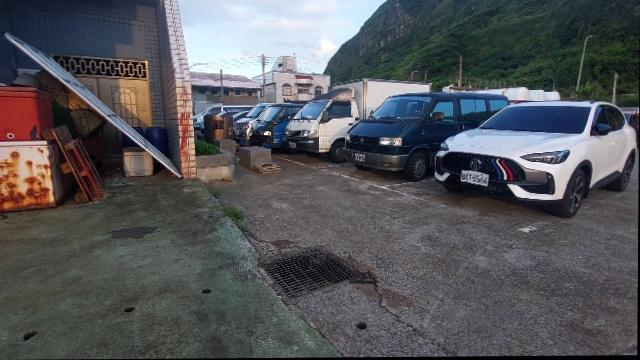pollute: (0, 67, 108, 213), (119, 147, 155, 180), (130, 126, 168, 156)
